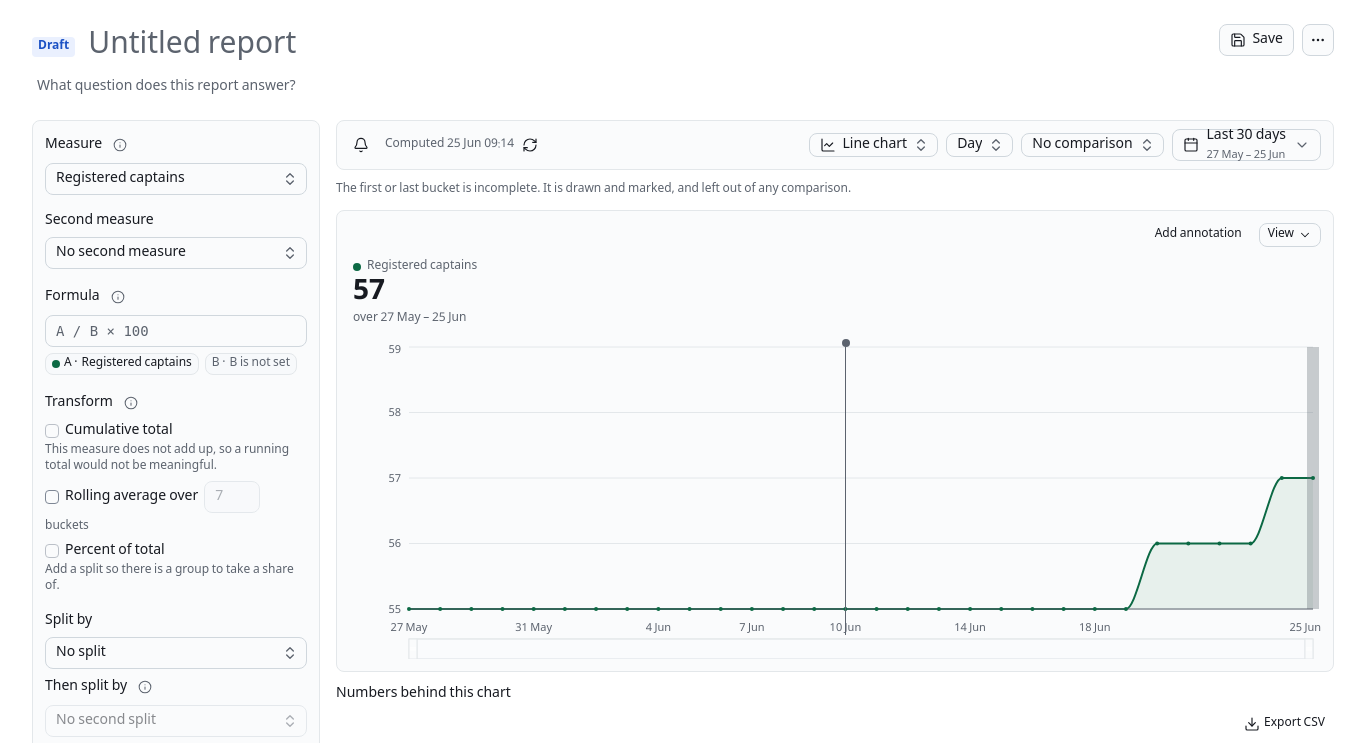
Scenario: a round trip through another mode costs no request › gives the trend back from memory — Trend → Funnel → Trend asks nothing
The width and height of the screenshot is (1366, 743).
Expected: the text "Computed" is shown, [385,134,514,155]
Step 1. Click the dropdown named "Chart type" → (874, 145), box [810,133,938,157]
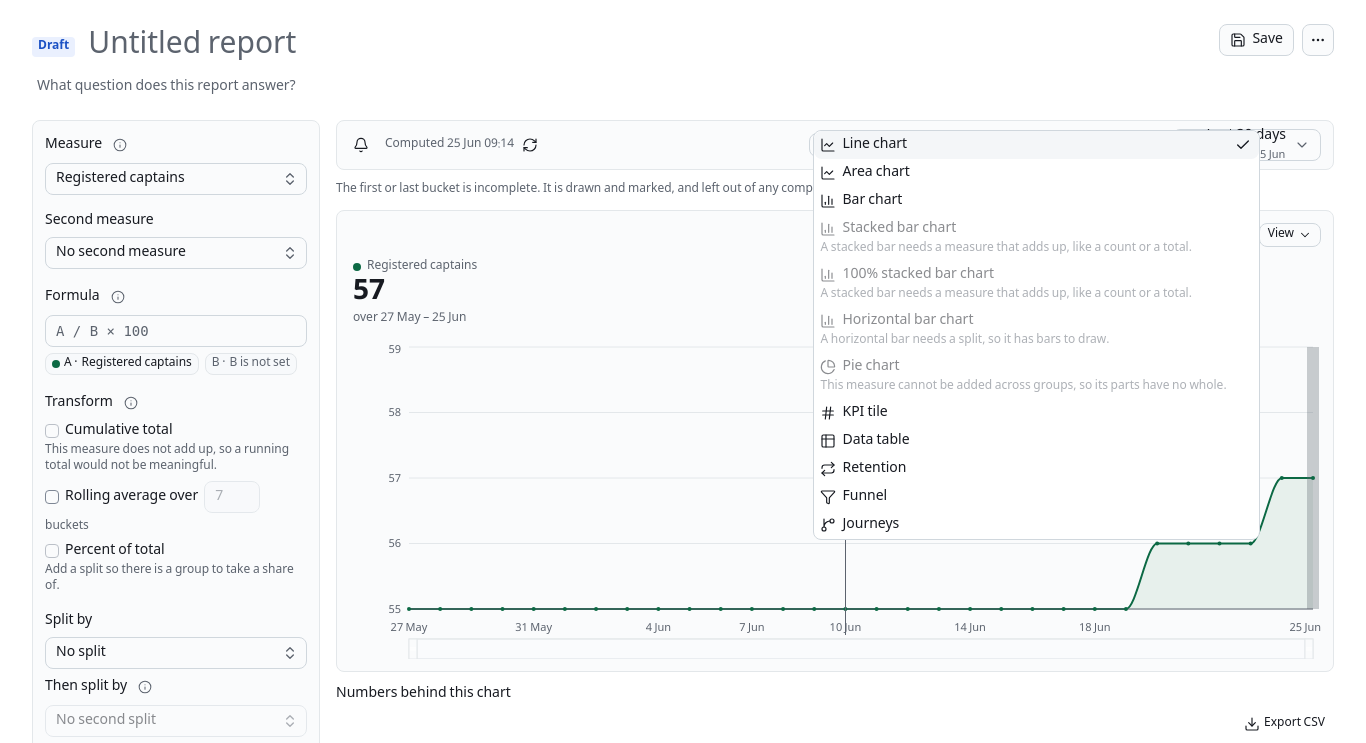
Step 2. Click the option "Funnel" → (854, 497), box [820,485,887,509]
Wait 2100 ms
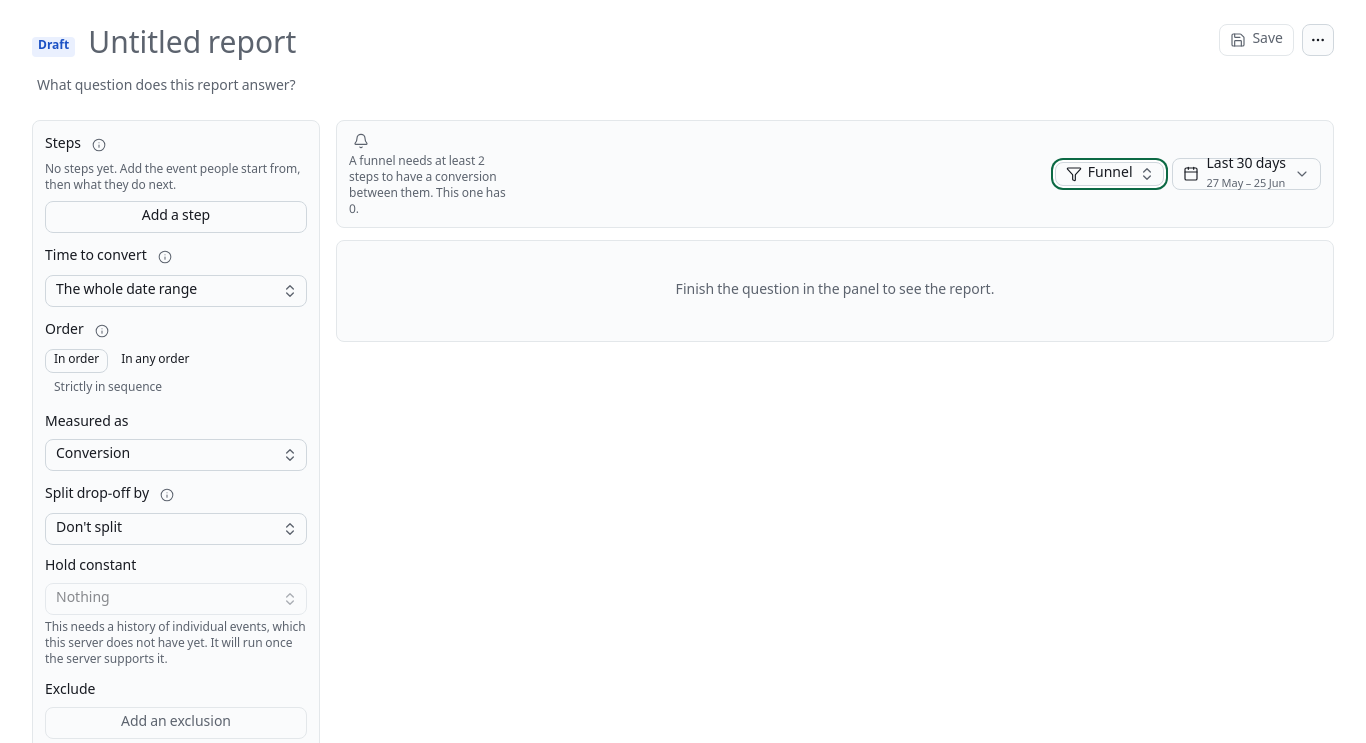
Step 3. Click the dropdown named "Chart type" → (1109, 174), box [1055,162,1164,186]
(page scrolled)
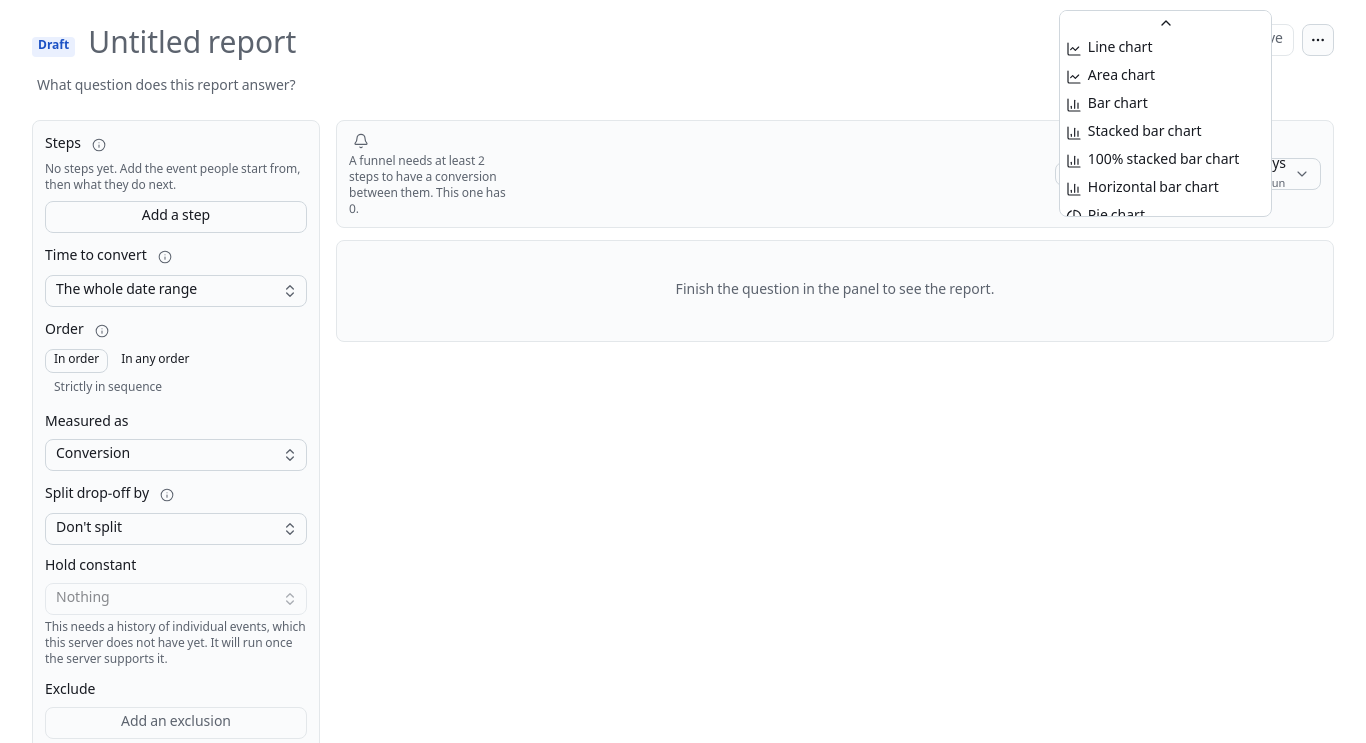
Step 4. Click the option "Line chart" → (1109, 49), box [1066,37,1152,61]
Wait 2100 ms
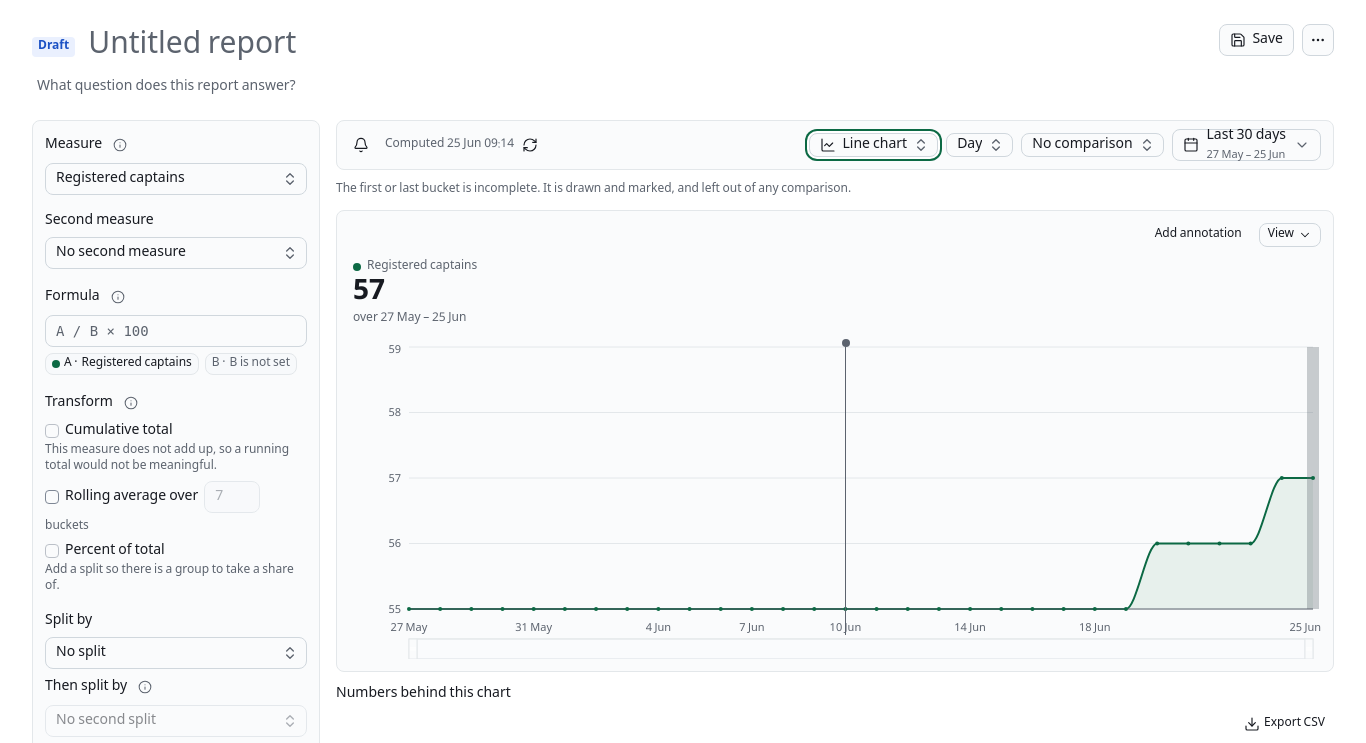
Now the text "Computed" is shown, box [385,134,514,155]
